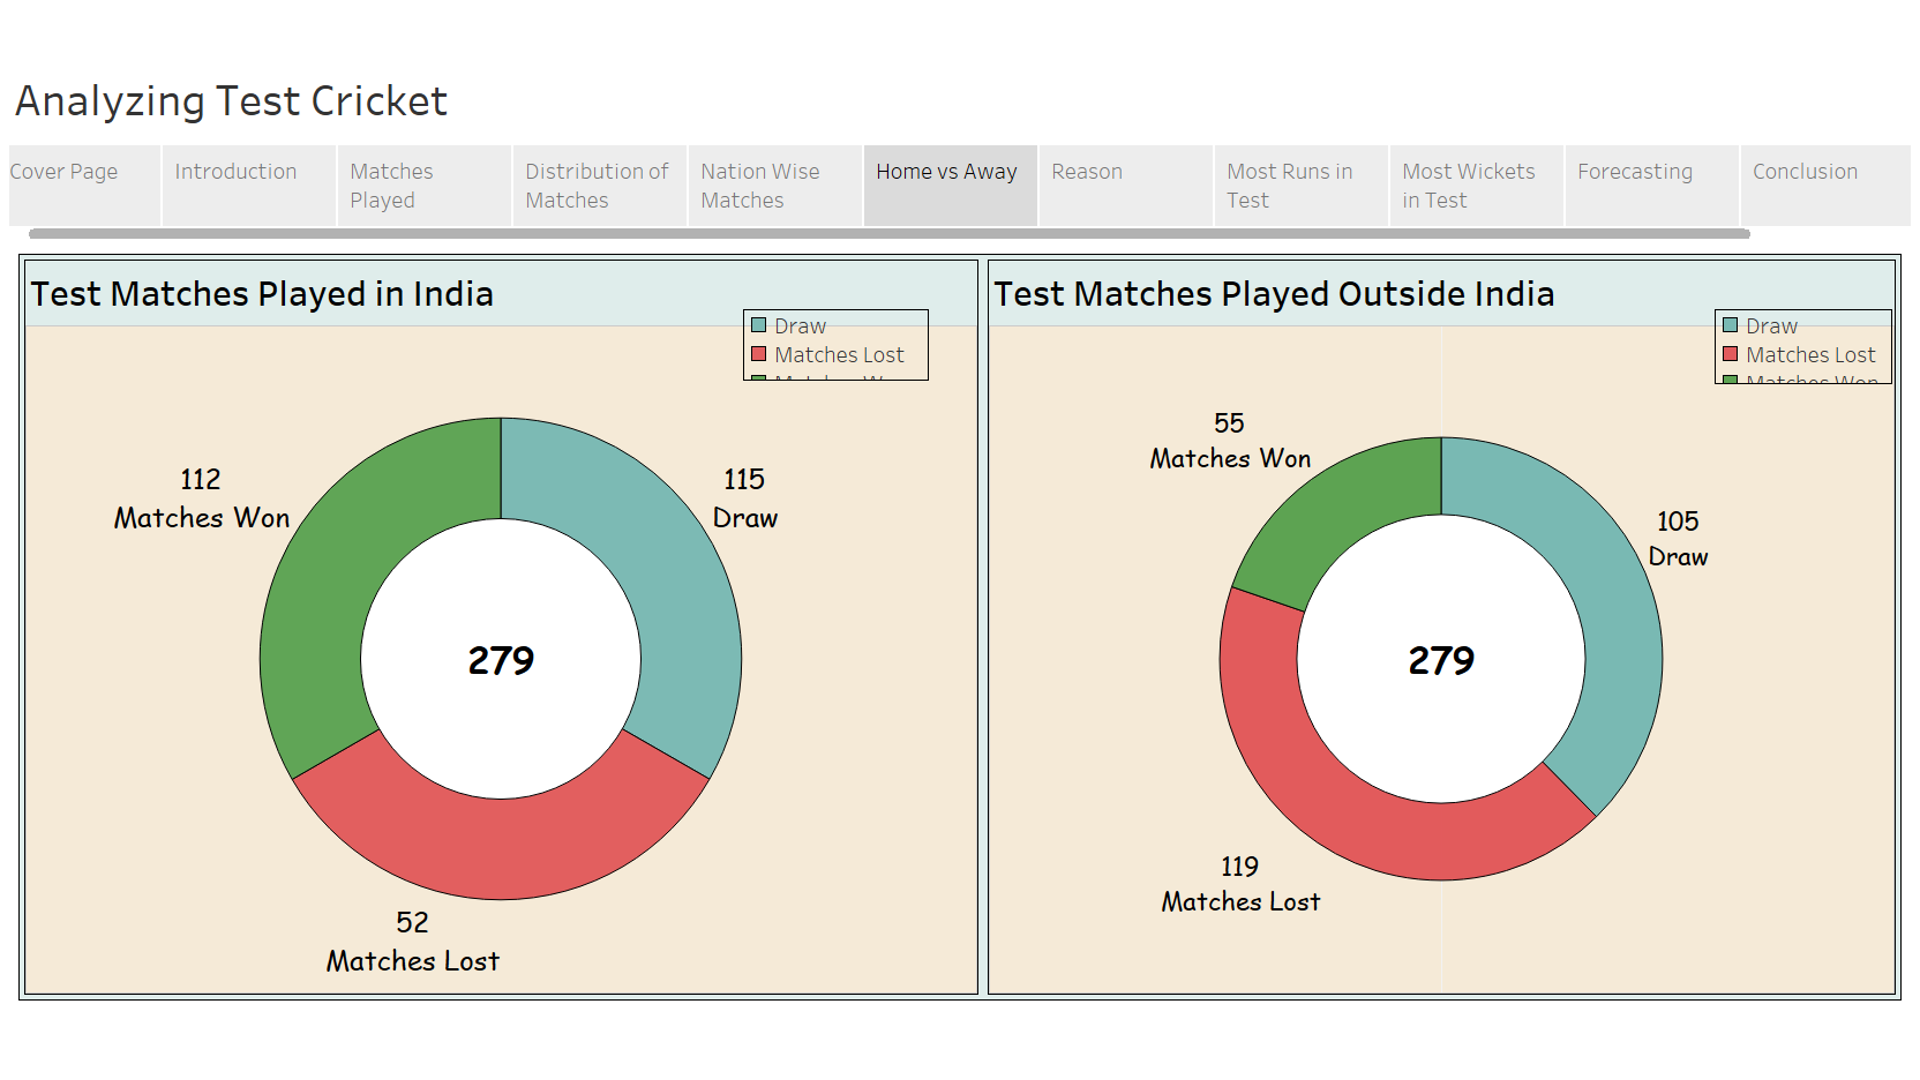

What the dashboard file says about the page in this screenshot:
{"tool":"tableau","page":{"name":"Slide4","canvas":[1000,1000],"units":"permille","ordinal":9},"visuals":[{"type":"worksheet","title":"Test Matches Played in India","mark":"Pie","cols":["Calculation_861594948741849089","Calculation_861594948741971971"],"box":[5.4,10.8,506.8,978.3]},{"type":"worksheet","title":"Test Matches Played Outside India","mark":"Pie","cols":["Calculation_1099722779180752903","Calculation_1099722779180773385"],"box":[512.2,10.8,482.4,978.3]},{"type":"legend","title":"Test Matches Played in India","param":"[federated.1sxhhpz06oy70a14aio9r05s2ig6].[none:F1:nk]","box":[386.2,84.3,97.3,94]},{"type":"legend","title":"Test Matches Played Outside India","param":"[federated.1xs97au0clsmho1d7466608pwzrf].[none:F1:nk]","box":[896.6,84.3,93.6,97.6]}]}

Visuals, with their boxes on the dashboard's canvas, which has no fixed pixel size, in thousandths of its width and height (x1, y1, x2, y2). These are canvas units, not pixel positions in the 1920x1080 screenshot, which may show the page scaled, cropped or inside an application window:
"Test Matches Played in India" worksheet (Pie marks): {"x1": 5, "y1": 11, "x2": 512, "y2": 989}
"Test Matches Played Outside India" worksheet (Pie marks): {"x1": 512, "y1": 11, "x2": 995, "y2": 989}
"Test Matches Played in India" legend: {"x1": 386, "y1": 84, "x2": 484, "y2": 178}
"Test Matches Played Outside India" legend: {"x1": 897, "y1": 84, "x2": 990, "y2": 182}
